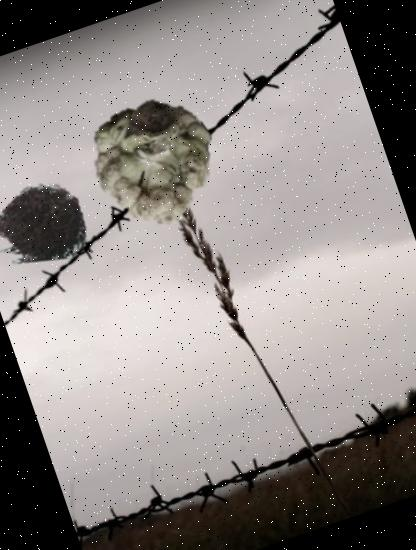Cauliflower: (74, 79, 236, 240)
Rambutan: (0, 159, 101, 284)
